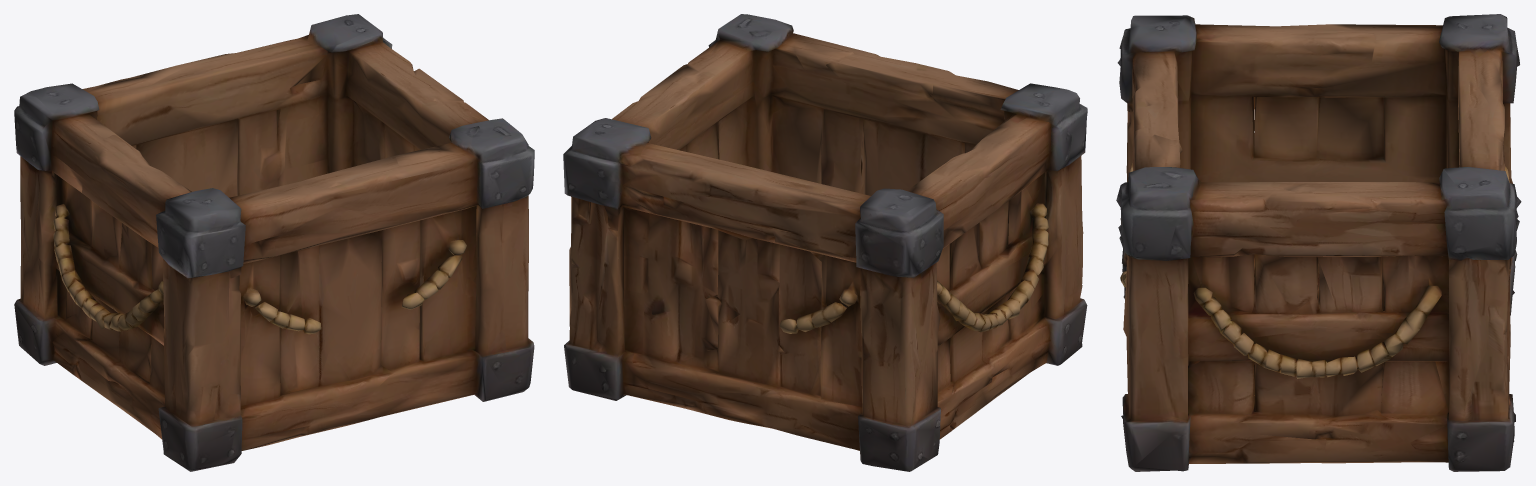
The model's file is prop-crate.glb.
3 views of the same model, side by side, from view 1: azimuth 30°, elevation 25°; view 2: azimuth 150°, elevation 25°; view 3: azimuth 270°, elevation 25° (orthographic). The views are drawn at different scales.
Visible parts, largest first — view 1: tripo_node_e216e737-7ad1-46e9-b03a-cb34d023381b; view 2: tripo_node_e216e737-7ad1-46e9-b03a-cb34d023381b; view 3: tripo_node_e216e737-7ad1-46e9-b03a-cb34d023381b.
Boxes of the visible parts, x1,y1,x2,y2 form: tripo_node_e216e737-7ad1-46e9-b03a-cb34d023381b: (14,14,534,471); tripo_node_e216e737-7ad1-46e9-b03a-cb34d023381b: (563,14,1087,471); tripo_node_e216e737-7ad1-46e9-b03a-cb34d023381b: (1116,14,1521,471).
Bounding box in the file's own units: 1 × 0.6655 × 0.8649.
Materials: 1 (1 with a texture image).
